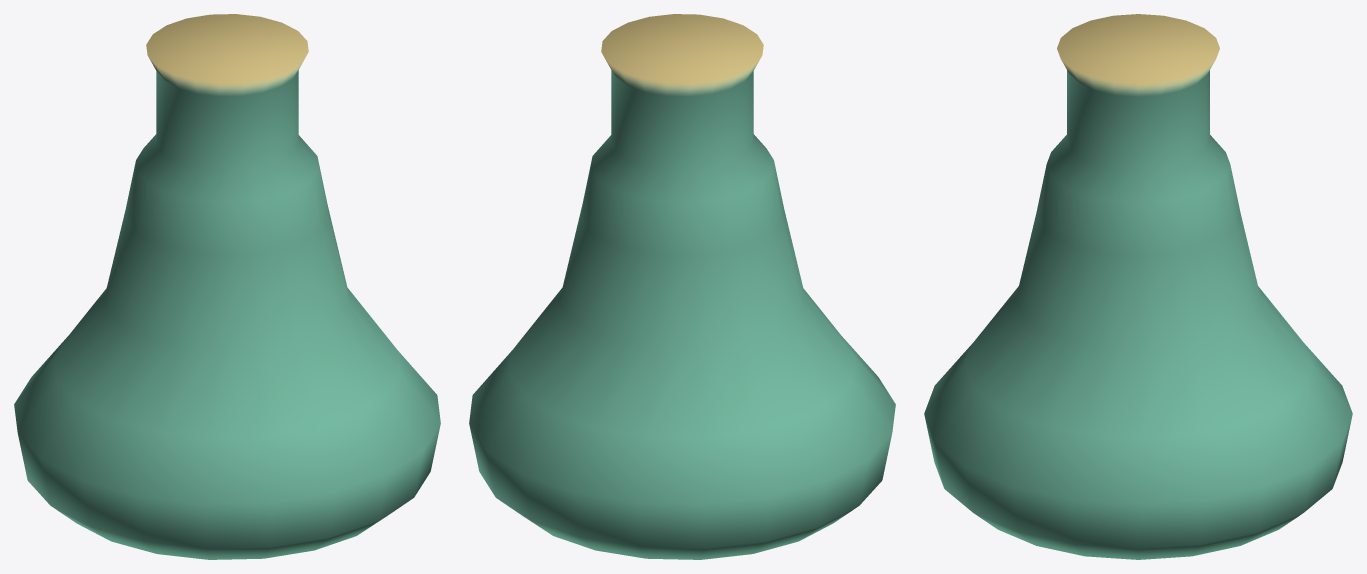
File: bottle.glb
3 renders of one model, left to right at view 1: azimuth 30°, elevation 25°; view 2: azimuth 150°, elevation 25°; view 3: azimuth 270°, elevation 25°, orthographic.
Parts seen in each view (by area): view 1: bottle; view 2: bottle; view 3: bottle.
Boxes of the visible parts, x1,y1,x2,y2 form: bottle: (14,14,440,559); bottle: (469,14,895,559); bottle: (924,14,1352,559).
Size of the model in its own units: 0.6384 by 0.72 by 0.6384.
